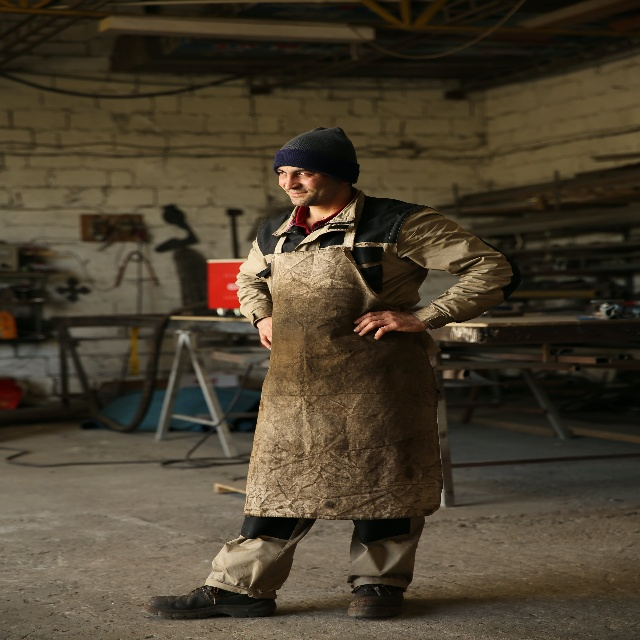Sin_guantes: (352, 313, 421, 340), (257, 316, 271, 350)
